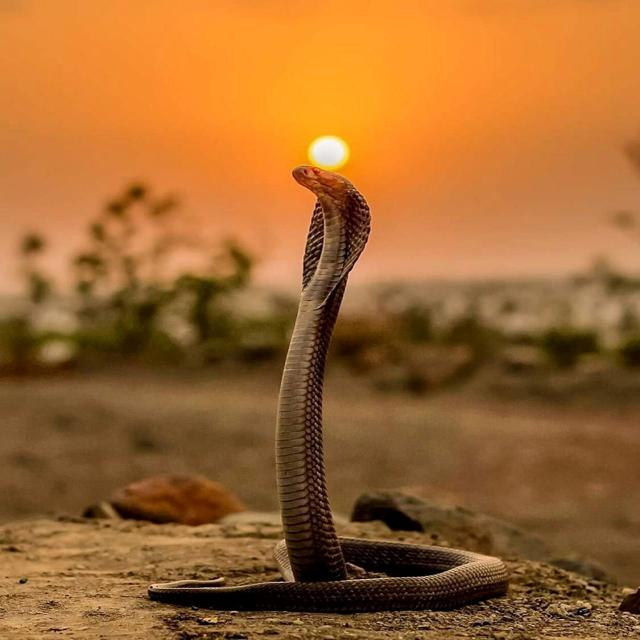Ophiophagus hannah: (149, 166, 508, 611)
